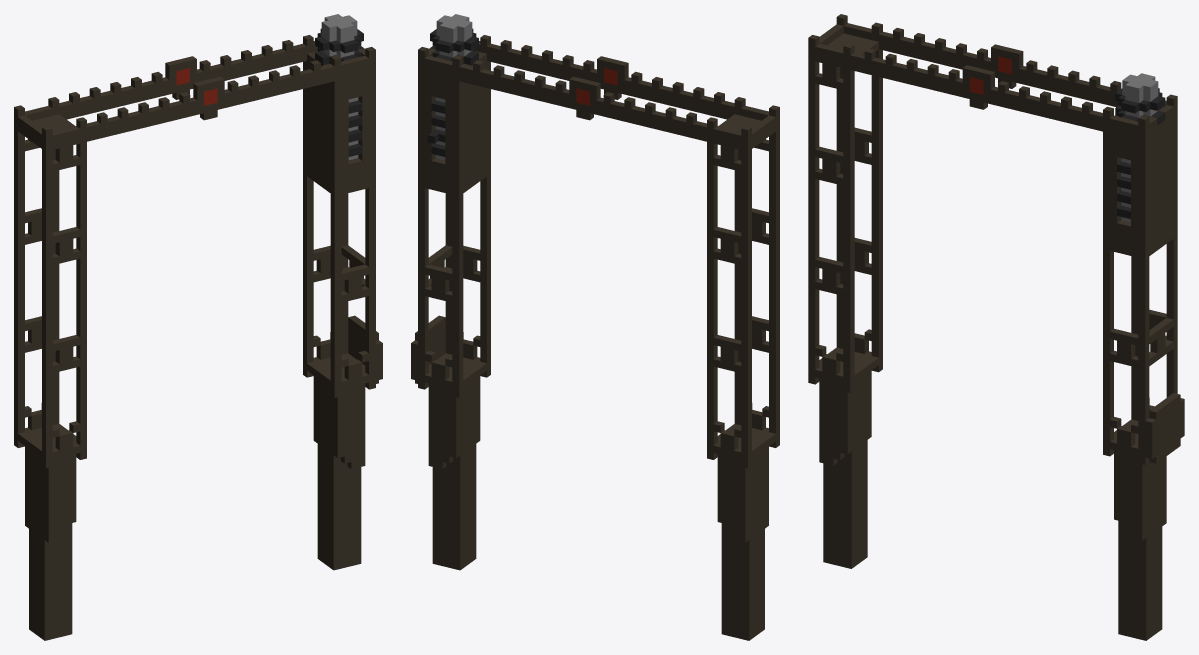
The model's file is шлагбаум( основа с намотаной катушкой на половину ).obj.
3 renders of one model, left to right at view 1: azimuth 30°, elevation 25°; view 2: azimuth 150°, elevation 25°; view 3: azimuth 330°, elevation 25°, orthographic. The views are drawn at different scales.
Size of the model in its own units: 4.9 by 7.5 by 0.9.
Materials: 1 (1 with a texture image).
